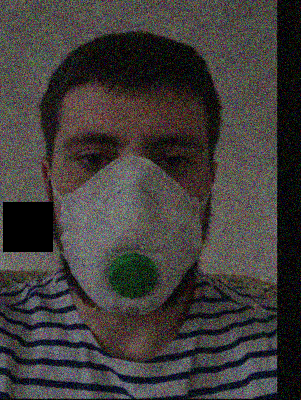with_mask: (55, 110, 208, 316)
